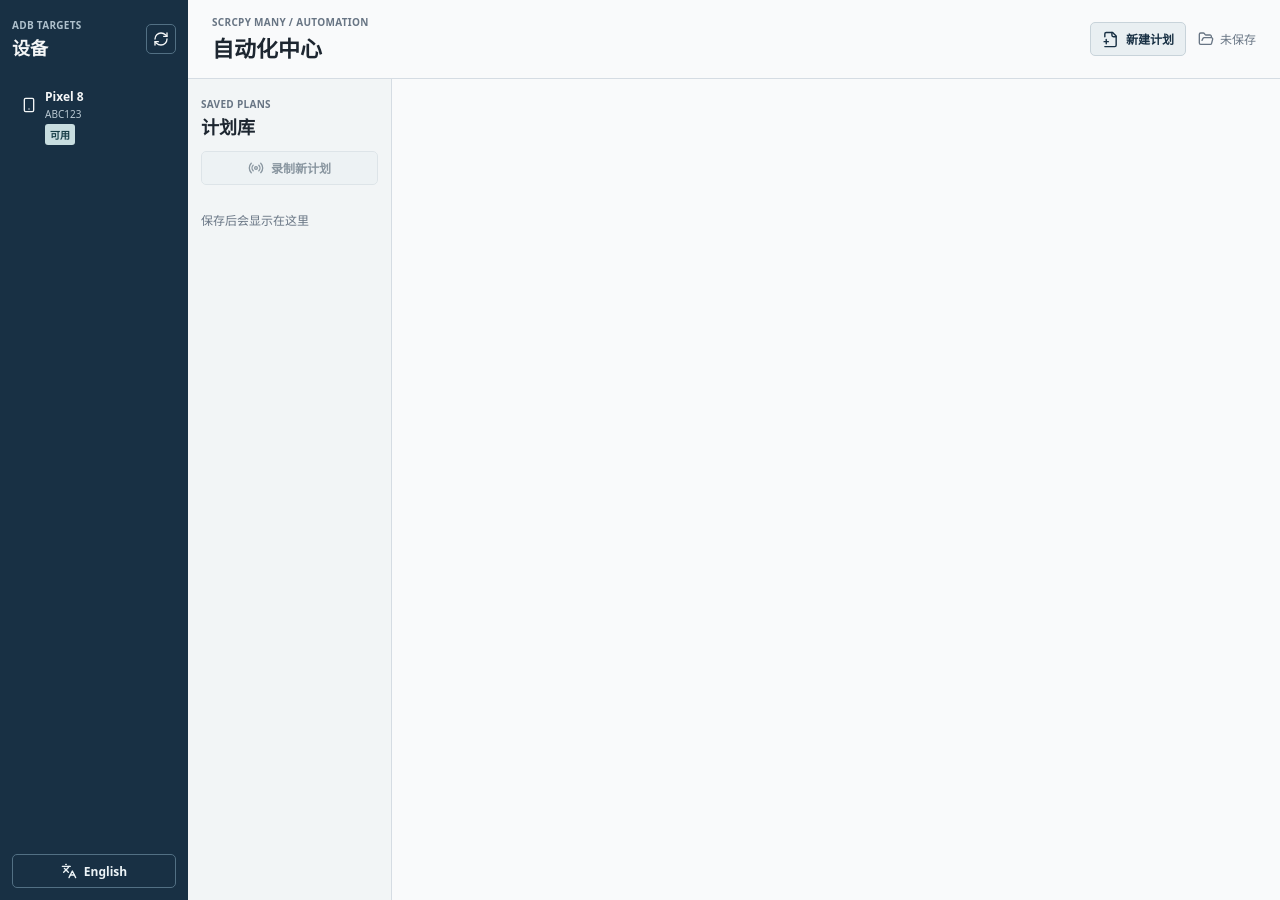
Test: App › sets the explicit target serial when a ready device is selected
Click the button "新建计划" at (1138, 39), box [1090,22,1186,56]
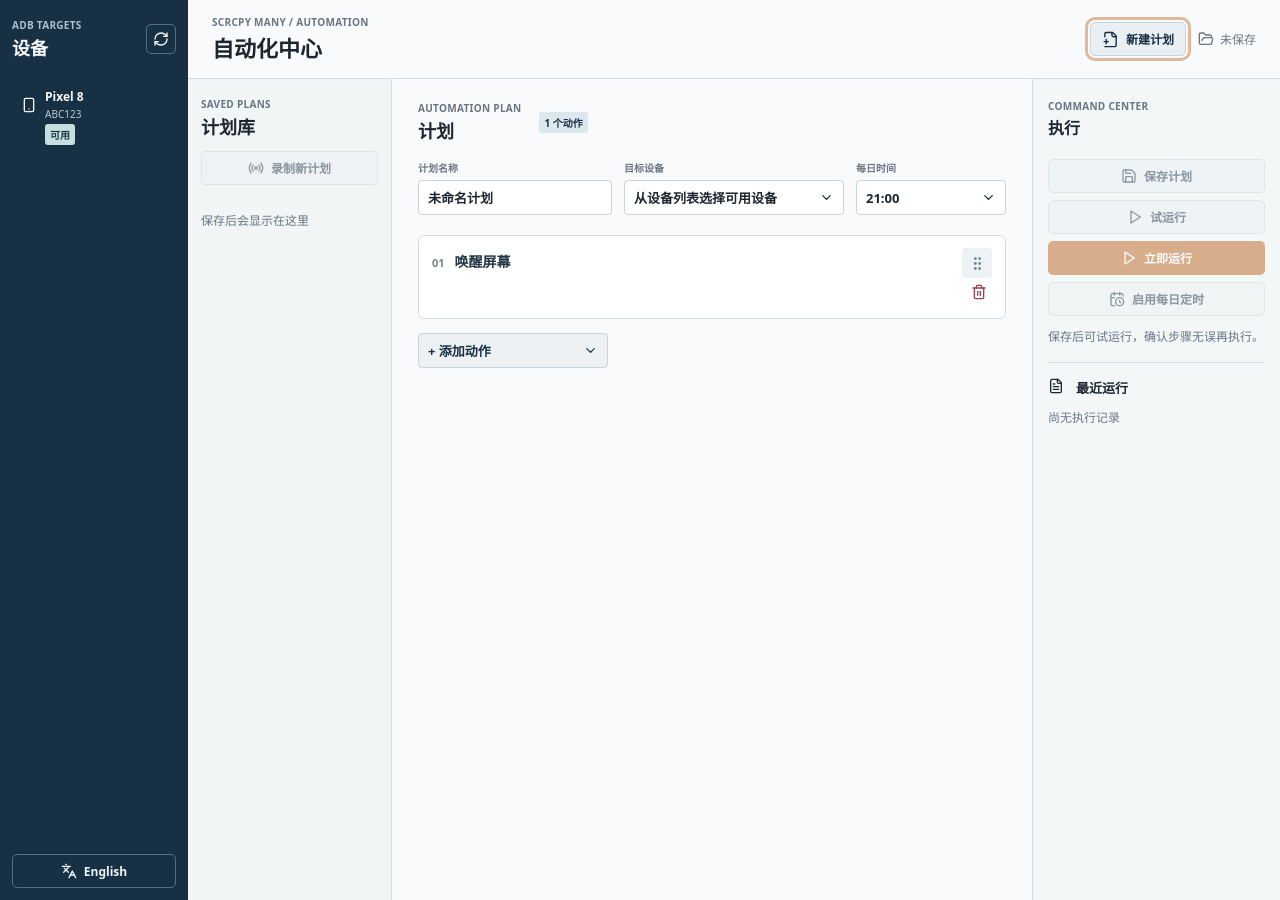
Click the button "Pixel 8 ABC123 可用" at (94, 116), box [12,78,175,155]
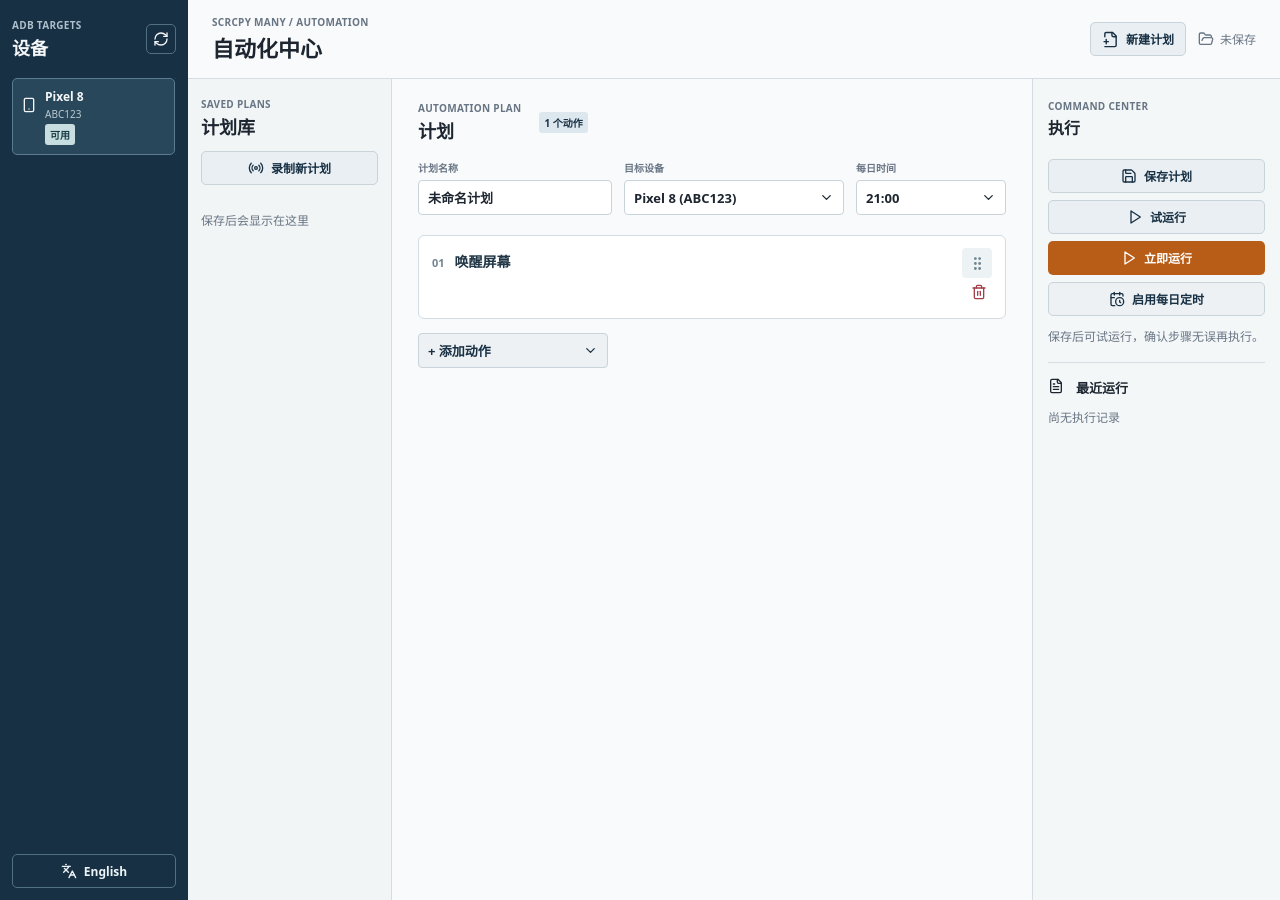
Expected: the button with aria-label "目标设备" shows "Pixel 8", [624,180,844,215]
